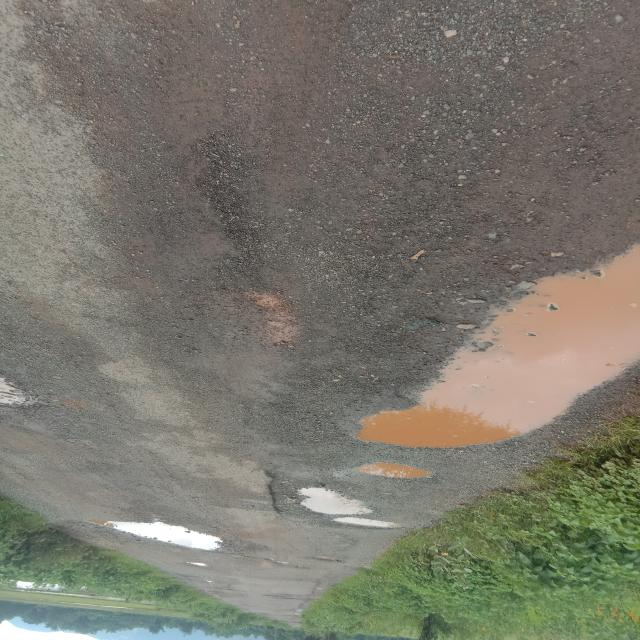potholes: (345, 240, 640, 454), (90, 512, 228, 554), (272, 490, 408, 530), (0, 377, 55, 411), (350, 464, 444, 482), (177, 557, 207, 569)
